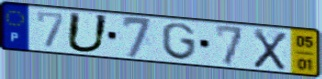7: (121, 15, 154, 60), (214, 24, 245, 68), (34, 10, 66, 50)
G: (160, 21, 199, 62)
U: (64, 10, 112, 55)
X: (252, 27, 289, 72)
